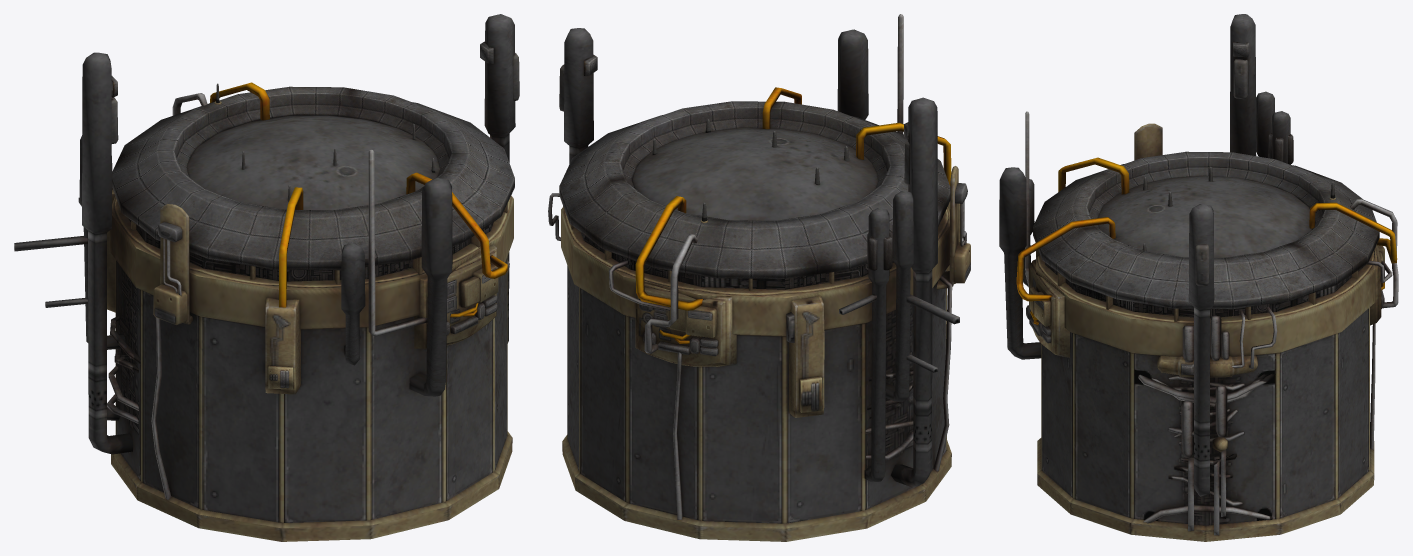
File: turbine_huge.dae
The picture shows the model from 3 angles, left to right: view 1: azimuth 30°, elevation 25°; view 2: azimuth 150°, elevation 25°; view 3: azimuth 270°, elevation 25°; orthographic projection. The views are drawn at different scales.
Visible parts, largest first — view 1: turbine_huge__2_; view 2: turbine_huge__2_; view 3: turbine_huge__2_.
Boxes of the visible parts, x1,y1,x2,y2 form: turbine_huge__2_: [14, 14, 519, 541]; turbine_huge__2_: [548, 14, 970, 541]; turbine_huge__2_: [999, 14, 1398, 541].
Bounding box in the file's own units: 9.93 × 9.06 × 8.76.
